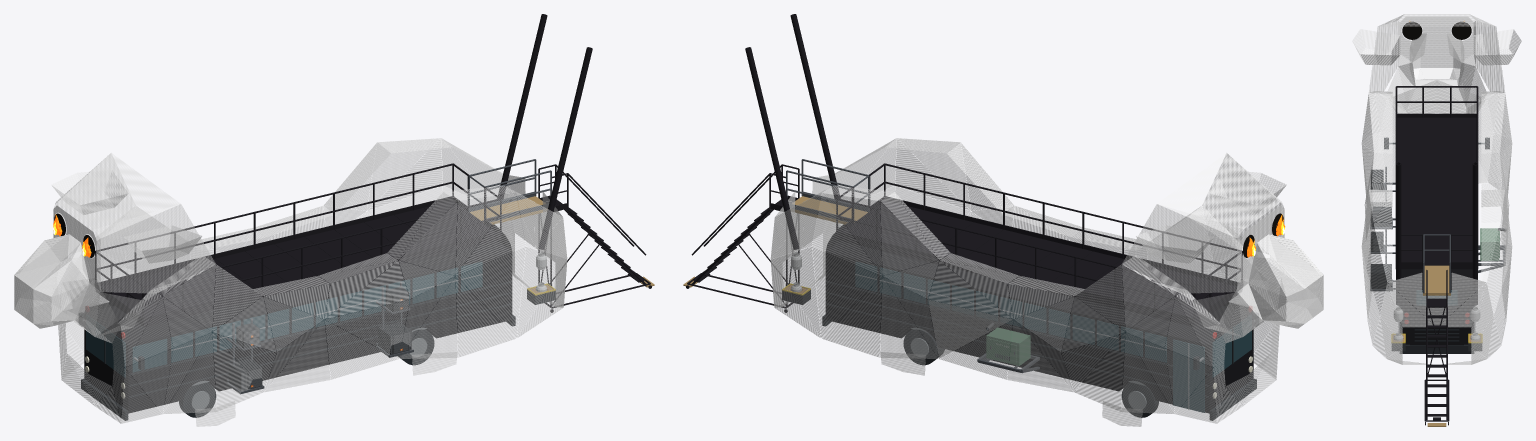
Rendered from baaabs-panelized-v15.glb.
The picture shows the model from 3 angles, left to right: view 1: azimuth 30°, elevation 25°; view 2: azimuth 150°, elevation 25°; view 3: azimuth 270°, elevation 25°; orthographic projection. The views are drawn at different scales.
Visible parts, largest first — view 1: Bus__Body_96in_wide, H-D-001 | Driver continuous side, H-C-002 | Center continuous rising crown, B-D-054 | Driver Skirt 07 b, H-P-001 | Passenger continuous side, B-D-053 | Driver Skirt 07 a, B-D-051 | Driver Skirt 06 a, B-D-050 | Driver Skirt 05 b, B-D-038 | Driver Flank 07 b, B-D-036 | Driver Flank 06 b, B-D-043 | Driver Skirt 02 a, B-D-049 | Driver Skirt 05 a (+73 smaller); view 2: Bus__Body_96in_wide, H-P-001 | Passenger continuous side, H-C-002 | Center continuous rising crown, B-P-062 | Passenger Skirt 07 b, H-D-001 | Driver continuous side, B-P-058 | Passenger Skirt 05 b, B-P-059 | Passenger Skirt 06 a, B-P-061 | Passenger Skirt 07 a, B-P-046 | Passenger Flank 07 b, B-P-044 | Passenger Flank 06 b, B-P-051 | Passenger Skirt 02 a, B-D-038 | Driver Flank 07 b (+75 smaller); view 3: Bus__Body_96in_wide, H-P-001 | Passenger continuous side, H-D-001 | Driver continuous side, H-C-002 | Center continuous rising crown, Bus__Rear_engine_hatch, Dancefloor_section_01, Dancefloor_section_02, Dancefloor_section_03, B-D-059 | Driver Rear surround 06 a, B-P-015 | Passenger Rear surround 05 a, Dancefloor_section_04, Dancefloor_section_12 (+100 smaller).
Part boxes in pixels (<box>): Bus__Body_96in_wide: <box>84,241,512,413</box>; H-D-001 | Driver continuous side: <box>100,204,215,293</box>; H-C-002 | Center continuous rising crown: <box>56,153,180,229</box>; B-D-054 | Driver Skirt 07 b: <box>456,247,525,337</box>; H-P-001 | Passenger continuous side: <box>55,153,135,253</box>; B-D-053 | Driver Skirt 07 a: <box>455,277,515,357</box>; B-D-051 | Driver Skirt 06 a: <box>399,277,457,358</box>; B-D-050 | Driver Skirt 05 b: <box>326,300,409,358</box>; B-D-038 | Driver Flank 07 b: <box>455,193,514,274</box>; B-D-036 | Driver Flank 06 b: <box>399,201,457,275</box>; B-D-043 | Driver Skirt 02 a: <box>163,334,216,413</box>; B-D-049 | Driver Skirt 05 a: <box>324,320,397,379</box>; Bus__Body_96in_wide: <box>825,241,1253,413</box>; H-P-001 | Passenger continuous side: <box>1122,204,1237,293</box>; H-C-002 | Center continuous rising crown: <box>1157,153,1281,229</box>; B-P-062 | Passenger Skirt 07 b: <box>812,247,881,337</box>; H-D-001 | Driver continuous side: <box>1202,153,1282,253</box>; B-P-058 | Passenger Skirt 05 b: <box>928,299,1012,358</box>; B-P-059 | Passenger Skirt 06 a: <box>880,277,938,358</box>; B-P-061 | Passenger Skirt 07 a: <box>822,277,882,357</box>; B-P-046 | Passenger Flank 07 b: <box>823,193,882,274</box>; B-P-044 | Passenger Flank 06 b: <box>880,201,938,275</box>; B-P-051 | Passenger Skirt 02 a: <box>1121,334,1174,413</box>; B-D-038 | Driver Flank 07 b: <box>897,138,970,209</box>; Bus__Body_96in_wide: <box>1400,269,1473,344</box>; H-P-001 | Passenger continuous side: <box>1476,21,1504,92</box>; H-D-001 | Driver continuous side: <box>1369,21,1397,92</box>; H-C-002 | Center continuous rising crown: <box>1378,14,1495,26</box>; Bus__Rear_engine_hatch: <box>1410,319,1463,345</box>; Dancefloor_section_01: <box>1397,117,1476,129</box>; Dancefloor_section_02: <box>1397,130,1476,142</box>; Dancefloor_section_03: <box>1397,142,1476,154</box>; B-D-059 | Driver Rear surround 06 a: <box>1388,272,1436,325</box>; B-P-015 | Passenger Rear surround 05 a: <box>1437,272,1485,325</box>; Dancefloor_section_04: <box>1397,154,1476,166</box>; Dancefloor_section_12: <box>1395,253,1478,269</box>.
Size of the model in its own units: 19.95 by 8.42 by 5.52.
232 materials, 207 textured.
